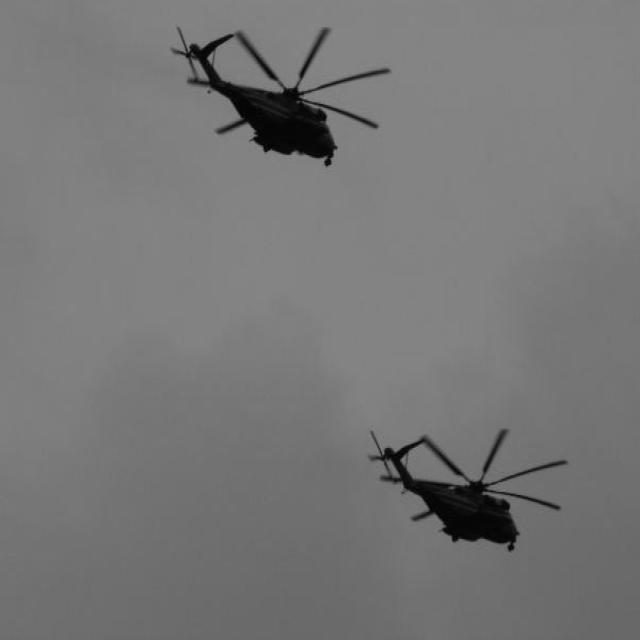helicopter: (172, 28, 389, 165), (369, 428, 576, 553)
